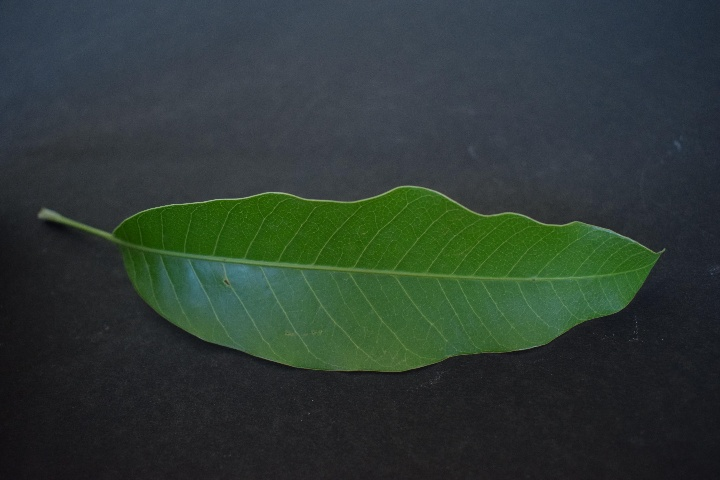healthy: (117, 191, 653, 364)
